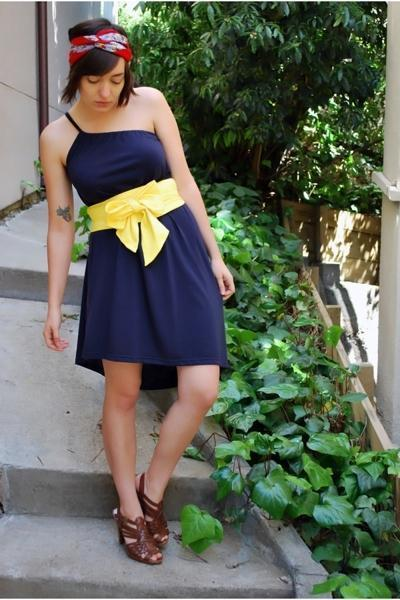dress: (62, 119, 238, 389)
shoe: (118, 492, 169, 565)
